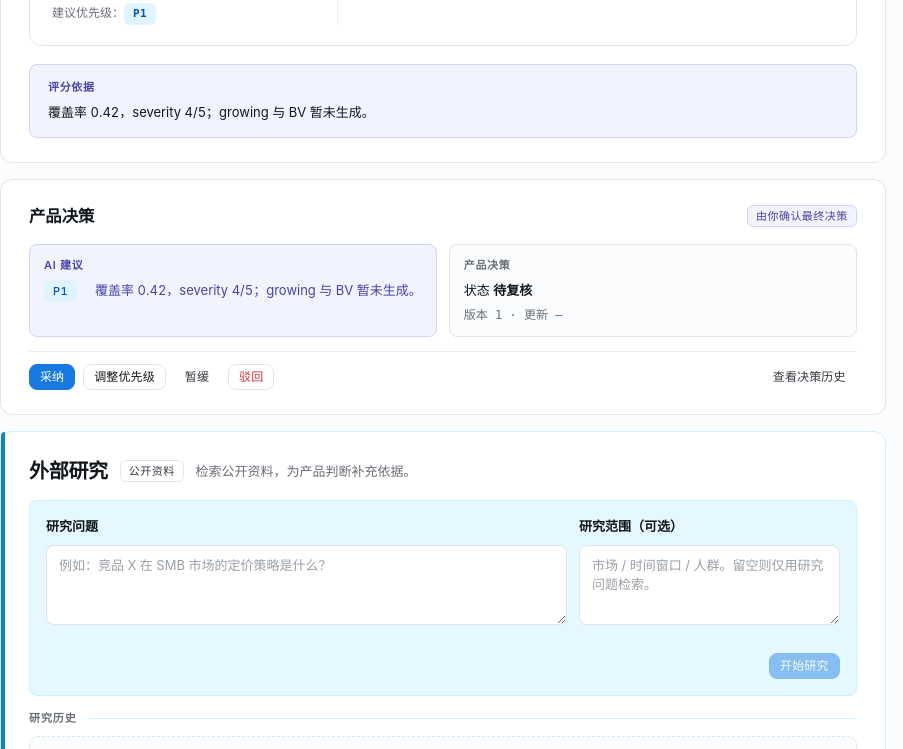
Test case: InsightDetailPage — Phase 7 B1 fixes › refuses PATCH /decision when crypto.randomUUID is unavailable
The width and height of the screenshot is (903, 749).
(page scrolled)
Expected: the element with test id "decision-actions" is shown, [29,351,857,390]
What coordinates should you click on to do the following:
click the button "采纳"
I would click on:
 (52, 377)
Its box is [29,364,75,390].
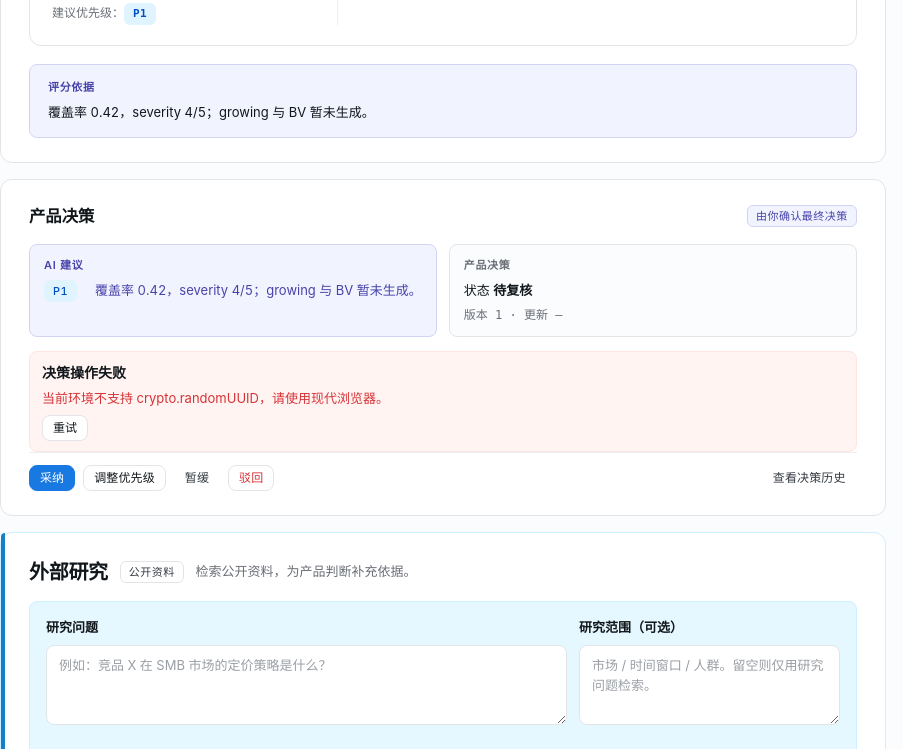
Result: the text "当前环境不支持 crypto.randomUUID，请使用现代浏览器。" is shown at [42,389,389,409]
